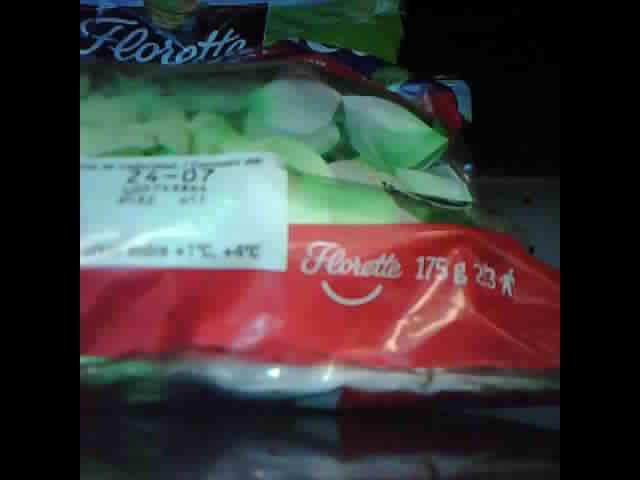florette: (82, 39, 562, 398)
